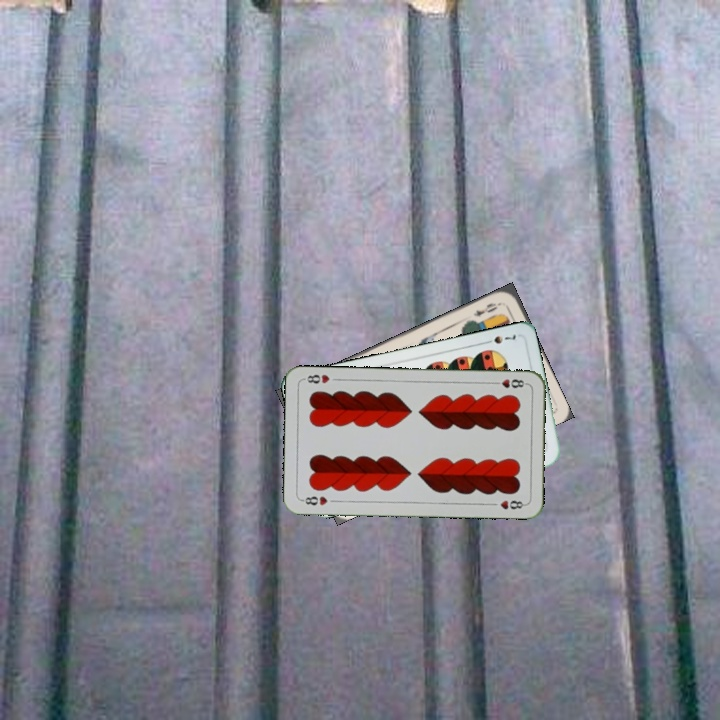EO: (469, 298, 504, 319)
H8: (489, 375, 529, 390), (298, 492, 330, 508)
S7: (480, 331, 518, 347)
